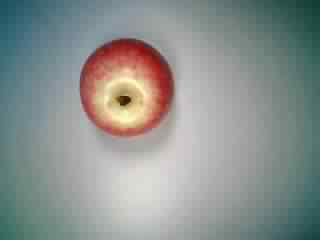apple: (74, 35, 178, 139)
